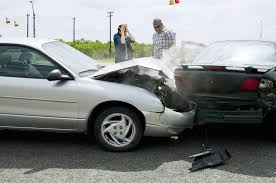accident: (4, 41, 271, 153)
